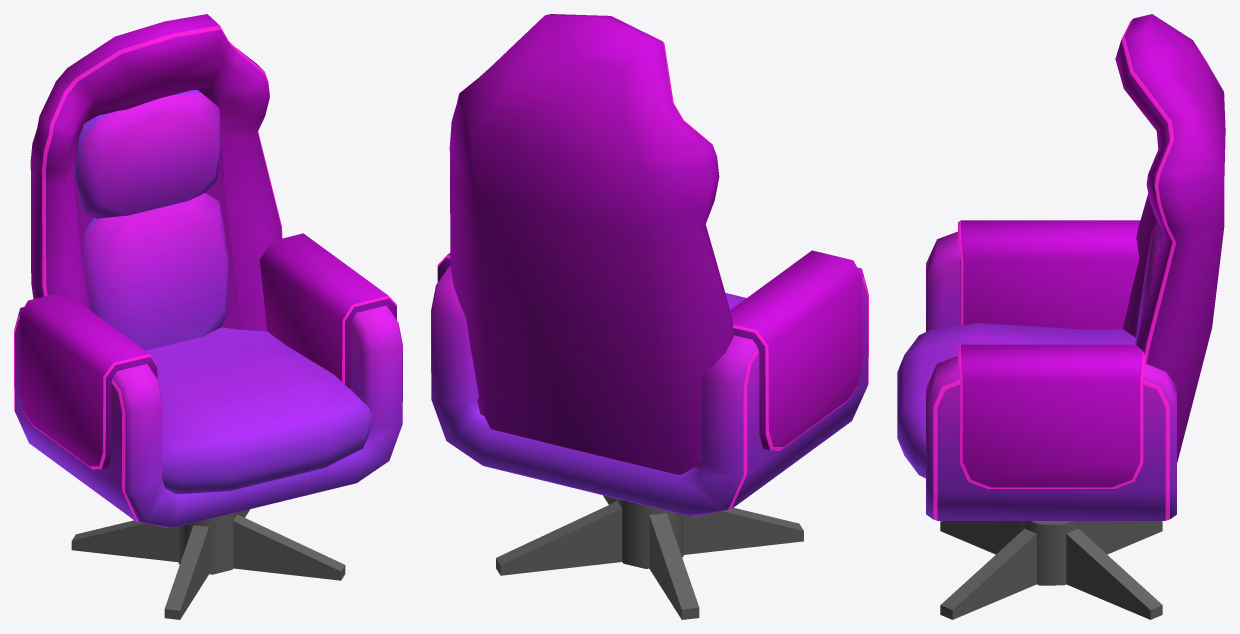
The model's file is gamer_chair.gltf.
3 renders of one model, left to right at view 1: azimuth 30°, elevation 25°; view 2: azimuth 150°, elevation 25°; view 3: azimuth 270°, elevation 25°, orthographic. The views are drawn at different scales.
Visible parts, largest first — view 1: gamer_chair, gamer_chair.001; view 2: gamer_chair, gamer_chair.001; view 3: gamer_chair, gamer_chair.001.
Boxes of the visible parts, left/top/right/bottom form: gamer_chair: left=14, top=14, right=402, bottom=619; gamer_chair.001: left=19, top=233, right=396, bottom=469; gamer_chair: left=431, top=14, right=868, bottom=619; gamer_chair.001: left=437, top=250, right=862, bottom=450; gamer_chair: left=897, top=14, right=1225, bottom=619; gamer_chair.001: left=958, top=220, right=1144, bottom=488.
Size of what is drawn, in the model's own units: 0.9578 by 1.58 by 0.8674.
3 materials, 3 textured.
